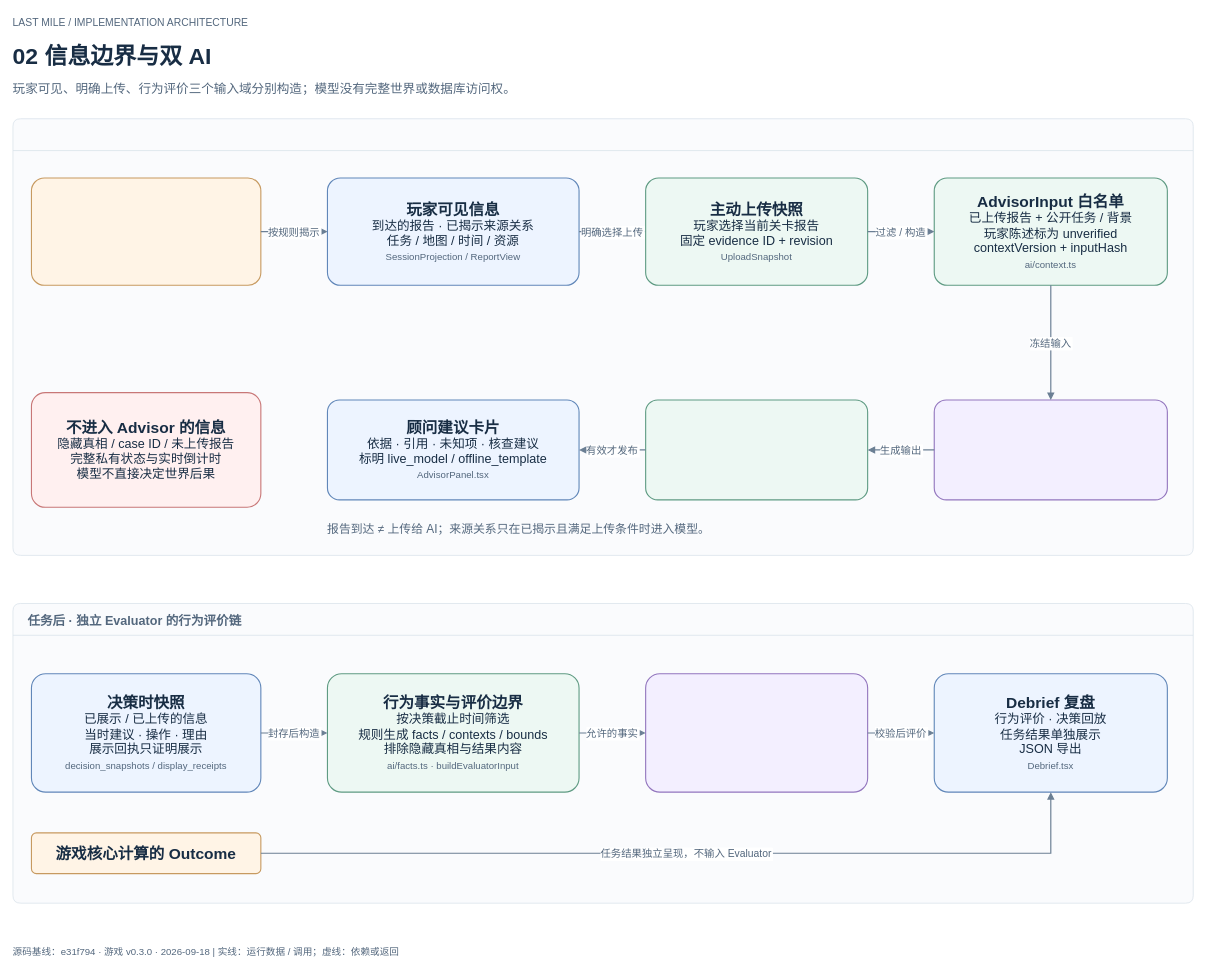
Some shapes in this 1210 by 973 pixel diagram are drawn without their labels. Each missing label, with the box of its shape:
Advisor 独立提示词与冻结输入 异步模型调用 / 离线模板 ai/index.ts: (933, 399, 1168, 500)
任务中 · Advisor 的授权信息链: (12, 118, 1193, 555)
服务端私有世界 隐藏剧本 A/B · 未揭示证据 路线条件 · 完整运行状态 World + State: (31, 177, 261, 285)
独立 Evaluator 终局封存后才可请求 独立输入与提示词 评价已记录行为 EvaluatorInput / Output: (645, 673, 868, 792)
输出与发布检查 结构 / 引用 / 语言检查 场景与上下文仍须有效 ai/guards.ts + Core.publishJob: (645, 399, 868, 500)
